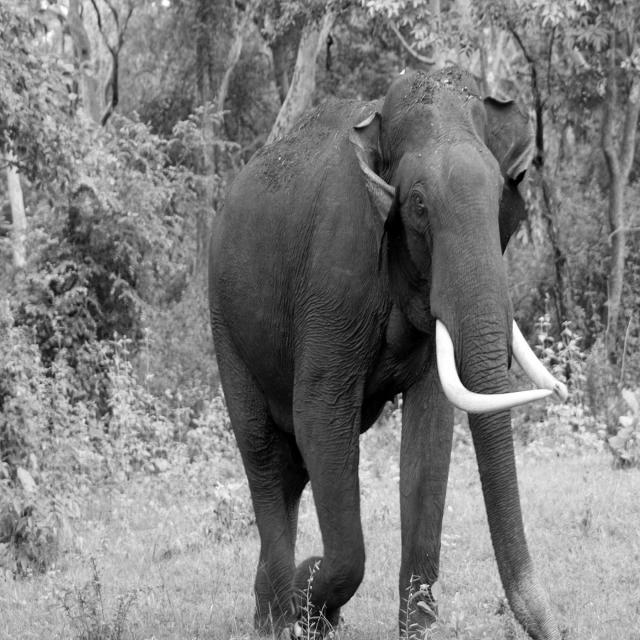Elephant: (185, 43, 594, 635)
